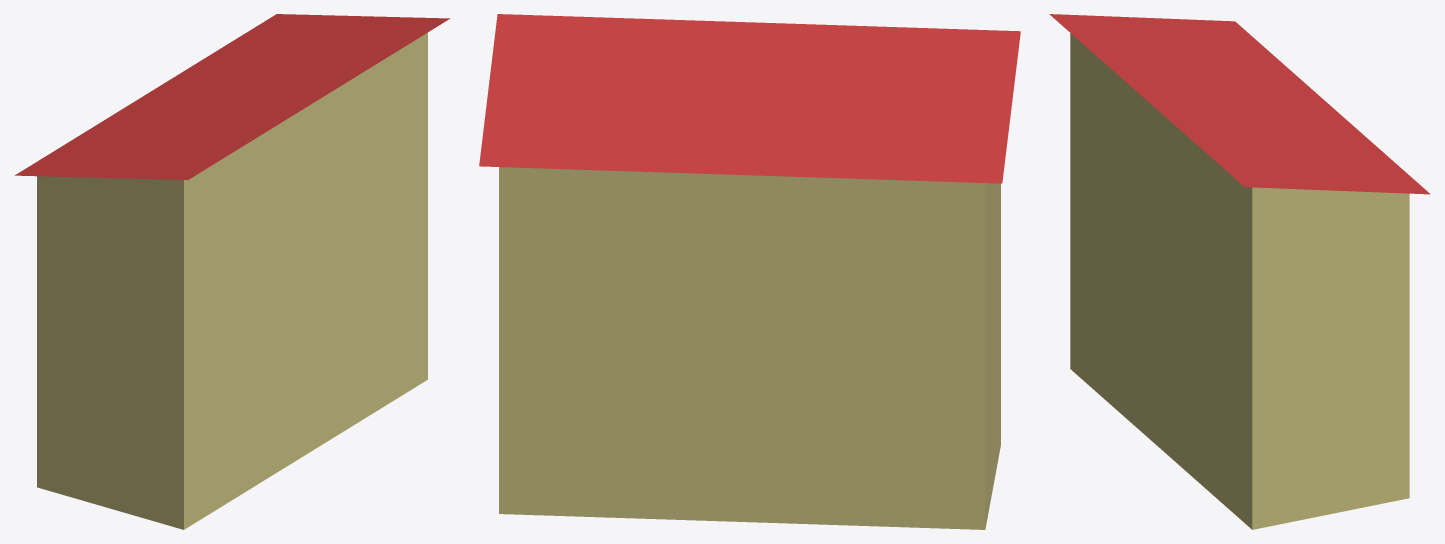
The picture shows the model from 3 angles, left to right: view 1: azimuth 30°, elevation 25°; view 2: azimuth 150°, elevation 25°; view 3: azimuth 270°, elevation 25°; orthographic projection. The views are drawn at different scales.
Size of the model in its own units: 7.79 by 5.97 by 6.07.
